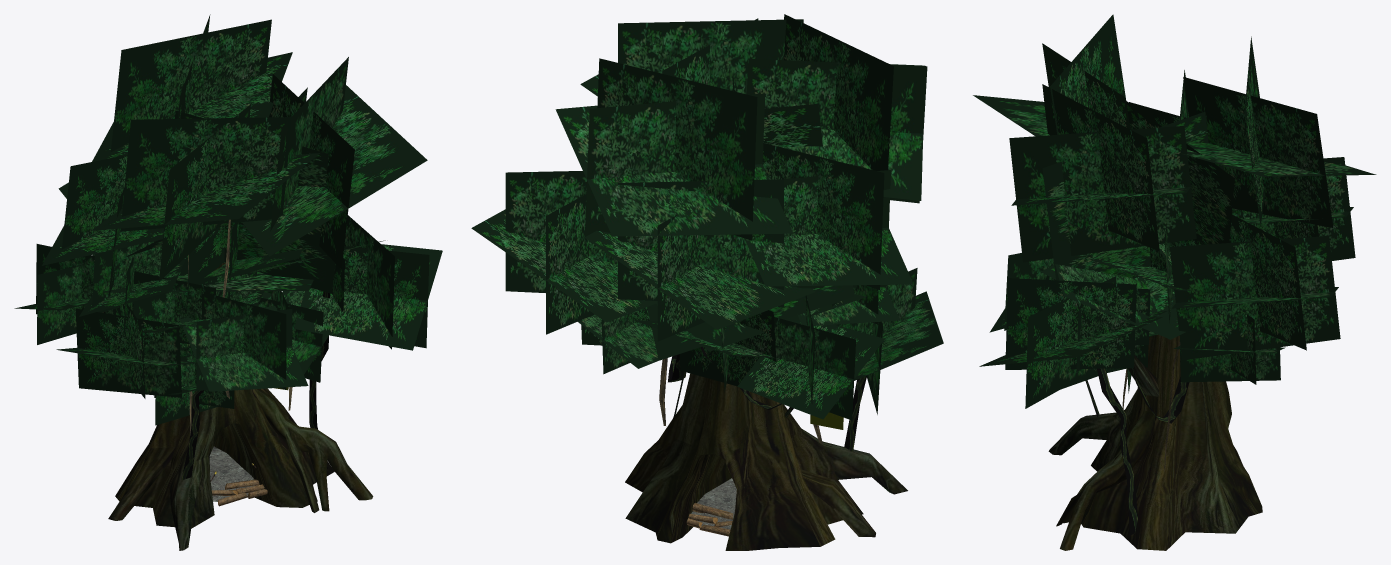
Rendered from tunnelcap_jungle.fbx.
The picture shows the model from 3 angles, left to right: view 1: azimuth 30°, elevation 25°; view 2: azimuth 150°, elevation 25°; view 3: azimuth 270°, elevation 25°; orthographic projection. The views are drawn at different scales.
Parts seen in each view (by area): view 1: leaf16, big_tree_trunk_trunk, leaf10, leaf21, leaf17, leaf7, leaf20, leaf12, leaf19, leaf15, leaf2, leaf24 (+10 smaller); view 2: leaf21, big_tree_trunk_trunk, leaf16, leaf12, leaf9, leaf11, leaf10, leaf19, leaf20, leaf8, leaf4, leaf22 (+5 smaller); view 3: big_tree_trunk_trunk, leaf10, leaf11, leaf21, leaf17, leaf16, leaf15, leaf22, leaf9, leaf4, leaf14, leaf3 (+7 smaller).
Boxes of the visible parts, x1,y1,x2,y2 form: leaf16: [91, 104, 319, 281]; big_tree_trunk_trunk: [108, 262, 373, 550]; leaf10: [242, 57, 427, 269]; leaf21: [92, 14, 292, 161]; leaf17: [294, 215, 442, 350]; leaf7: [179, 292, 308, 391]; leaf20: [56, 292, 196, 398]; leaf12: [42, 155, 163, 298]; leaf19: [14, 244, 113, 344]; leaf15: [174, 110, 335, 293]; leaf2: [79, 240, 186, 336]; leaf24: [132, 271, 220, 350]; leaf21: [555, 58, 793, 240]; big_tree_trunk_trunk: [625, 326, 907, 550]; leaf16: [745, 14, 927, 203]; leaf12: [744, 143, 913, 289]; leaf9: [584, 179, 815, 341]; leaf11: [471, 171, 657, 334]; leaf10: [580, 18, 803, 96]; leaf19: [737, 295, 884, 420]; leaf20: [831, 268, 943, 414]; leaf8: [633, 310, 779, 392]; leaf4: [578, 307, 658, 374]; leaf22: [763, 103, 822, 147]; big_tree_trunk_trunk: [1048, 284, 1262, 550]; leaf10: [1009, 84, 1196, 262]; leaf11: [1169, 214, 1340, 360]; leaf21: [1180, 36, 1376, 227]; leaf17: [979, 276, 1162, 408]; leaf16: [973, 14, 1130, 136]; leaf15: [1042, 112, 1208, 280]; leaf22: [1126, 101, 1234, 244]; leaf9: [1195, 157, 1355, 260]; leaf4: [1173, 314, 1285, 384]; leaf14: [1055, 264, 1167, 338]; leaf3: [1088, 225, 1202, 323].
Bounding box in the file's own units: 16113 × 18239 × 15414.
Materials: 3 (3 with a texture image).
